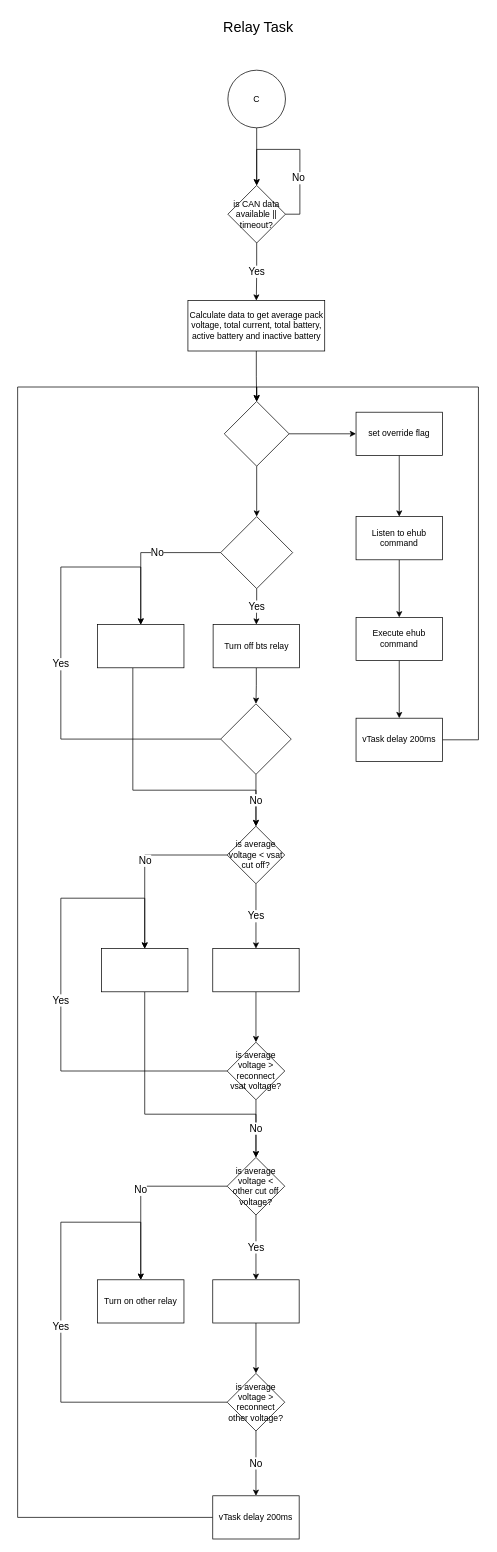
This 497x1552 diagram has some shape labels left out. Here are the shapes that lost their labels. From the top down, the centre of each, then its label:
At point (256, 433): "is Ehub connected?".
At point (256, 552): "is average voltage < bts cut off?".
At point (140, 646): "Turn on bts relay".
At point (255, 738): "is average voltage > bts reconnect voltage?".
At point (144, 970): "Turn on vsat relay".
At point (255, 970): "Turn off vsat relay".
At point (255, 1301): "Turn off other relay".
